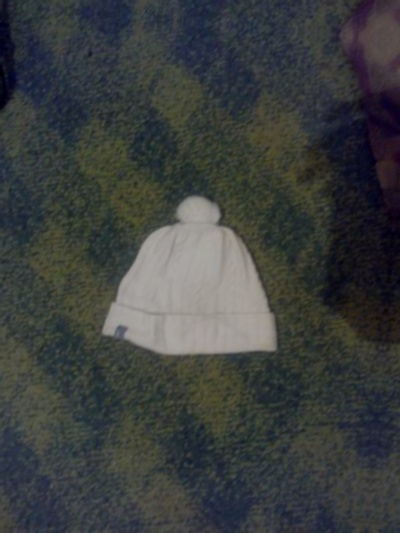Hat: (75, 155, 298, 377)
